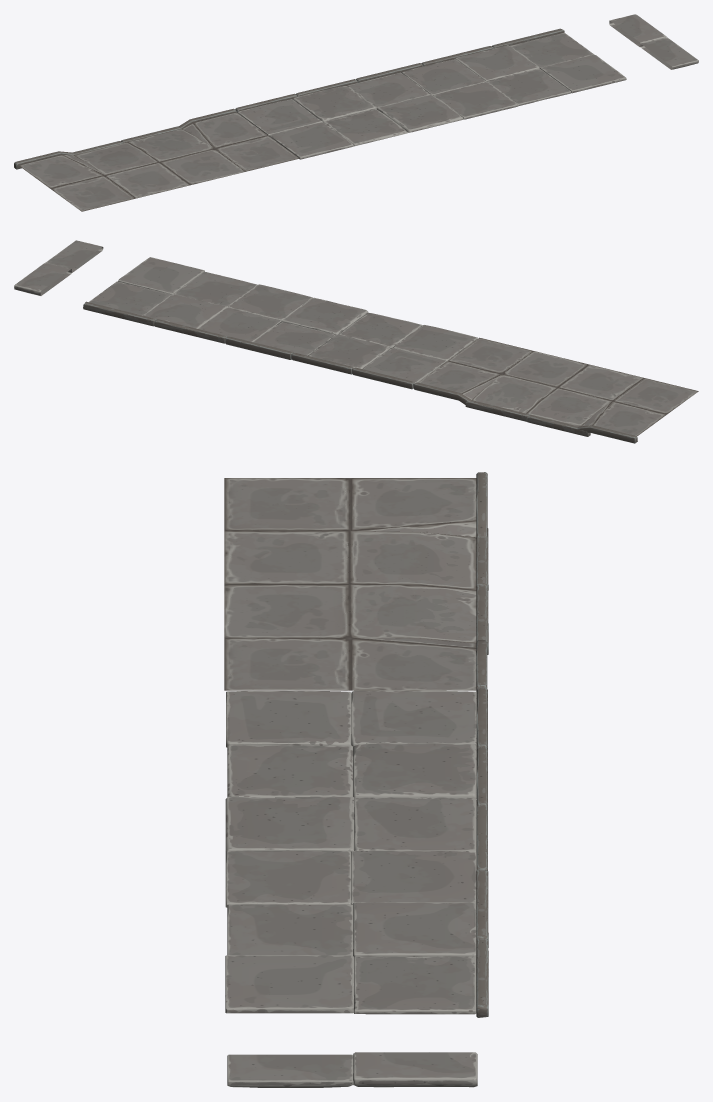
The model's file is road_brisks_unity.fbx.
3 views of the same model, one above another, from view 1: azimuth 30°, elevation 25°; view 2: azimuth 150°, elevation 25°; view 3: azimuth 270°, elevation 25° (orthographic). The views are drawn at different scales.
Parts seen in each view (by area): view 1: road_walkentrance, road_brisk1_low, road_brisk1flat_low, road_brisk3_low, road_brisk3flat_low, road_brisk2flat_low, road_brisk5_low, road_brisk2_low, road_brisk6_low, road_brisk5flat_low, road_brisk6flat_low, road_brisk4flat_low (+6 smaller); view 2: road_walkentrance, road_brisk1_low, road_brisk1flat_low, road_brisk3_low, road_brisk3flat_low, road_brisk2flat_low, road_brisk6_low, road_brisk2_low, road_brisk6flat_low, road_brisk5_low, road_brisk5flat_low, road_brisk4flat_low (+12 smaller); view 3: road_walkentrance, road_brisk1flat_low, road_brisk4flat_low, road_brisk1_low, road_brisk3_low, road_brisk3flat_low, road_brisk5flat_low, road_brisk5_low, road_brisk6_low, road_brisk4_low, road_brisk6flat_low, road_brisk2flat_low (+4 smaller).
Part boxes in pixels (left/top/right/bottom): road_walkentrance: left=19, top=112, right=299, bottom=211; road_brisk1_low: left=377, top=94, right=463, bottom=132; road_brisk1flat_low: left=540, top=54, right=626, bottom=93; road_brisk3_low: left=269, top=122, right=353, bottom=159; road_brisk3flat_low: left=433, top=82, right=517, bottom=119; road_brisk2flat_low: left=487, top=68, right=571, bottom=106; road_brisk5_low: left=293, top=85, right=376, bottom=122; road_brisk2_low: left=323, top=109, right=407, bottom=146; road_brisk6_low: left=237, top=99, right=322, bottom=135; road_brisk5flat_low: left=455, top=45, right=539, bottom=81; road_brisk6flat_low: left=401, top=59, right=486, bottom=94; road_brisk4flat_low: left=510, top=32, right=593, bottom=68; road_walkentrance: left=418, top=337, right=698, bottom=436; road_brisk1_low: left=281, top=297, right=368, bottom=334; road_brisk1flat_low: left=118, top=257, right=204, bottom=294; road_brisk3_low: left=393, top=325, right=477, bottom=361; road_brisk3flat_low: left=228, top=284, right=312, bottom=320; road_brisk2flat_low: left=174, top=271, right=257, bottom=307; road_brisk6_low: left=363, top=347, right=446, bottom=383; road_brisk2_low: left=339, top=313, right=421, bottom=348; road_brisk6flat_low: left=198, top=307, right=281, bottom=341; road_brisk5_low: left=308, top=334, right=390, bottom=368; road_brisk5flat_low: left=144, top=294, right=226, bottom=328; road_brisk4flat_low: left=89, top=281, right=171, bottom=315; road_walkentrance: left=224, top=478, right=476, bottom=690; road_brisk1flat_low: left=225, top=955, right=353, bottom=1013; road_brisk4flat_low: left=354, top=956, right=476, bottom=1014; road_brisk1_low: left=225, top=796, right=354, bottom=851; road_brisk3_low: left=226, top=691, right=351, bottom=747; road_brisk3flat_low: left=225, top=850, right=351, bottom=907; road_brisk5flat_low: left=353, top=902, right=476, bottom=957; road_brisk5_low: left=353, top=743, right=476, bottom=799; road_brisk6_low: left=351, top=690, right=476, bottom=746; road_brisk4_low: left=354, top=797, right=476, bottom=852; road_brisk6flat_low: left=351, top=850, right=476, bottom=904; road_brisk2flat_low: left=227, top=904, right=353, bottom=955.
Bounding box in the file's own units: 9.16 × 0.1539 × 1.69.
